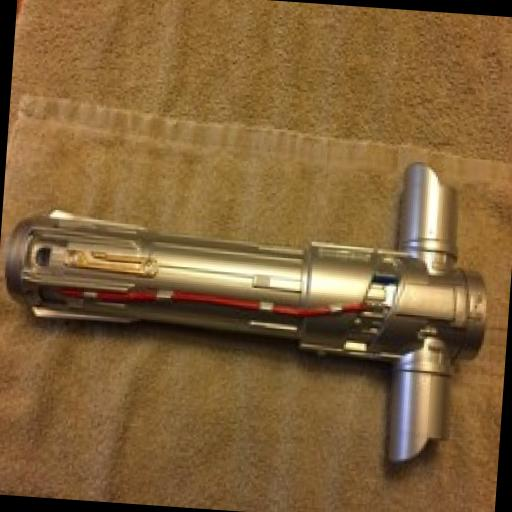lightsaber: (0, 127, 495, 464)
